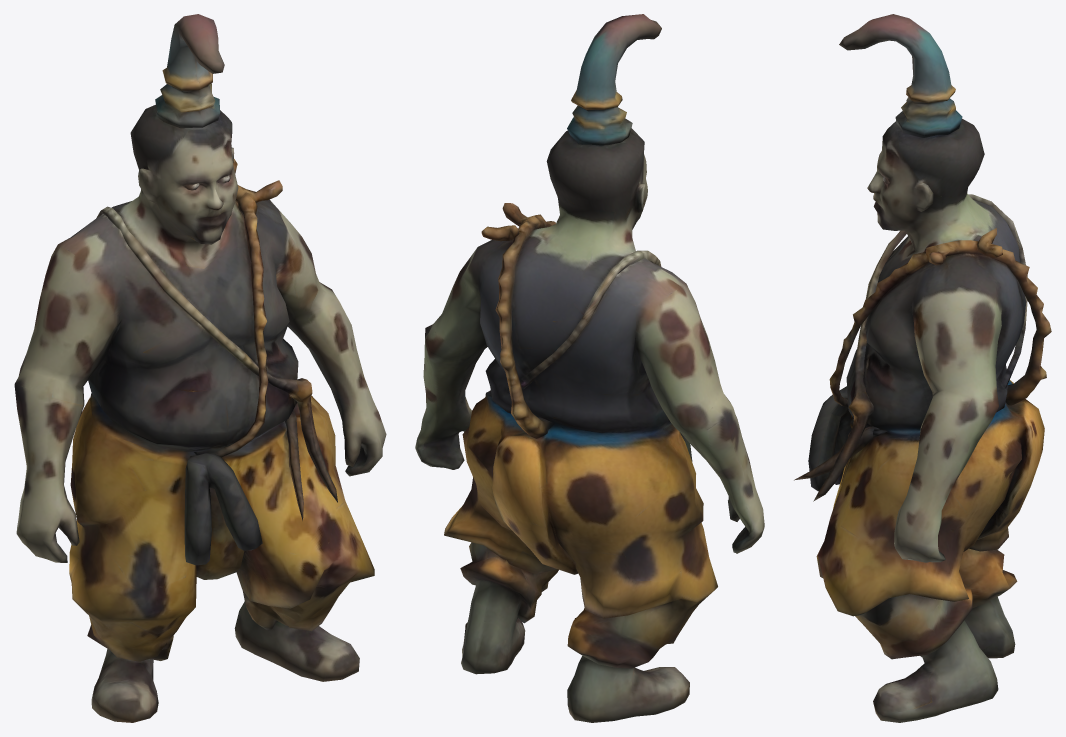
Rendered from แบงค์เลสเตอร์.glb.
The picture shows the model from 3 angles, left to right: view 1: azimuth 30°, elevation 25°; view 2: azimuth 150°, elevation 25°; view 3: azimuth 270°, elevation 25°; orthographic projection. The views are drawn at different scales.
Visible parts, largest first — view 1: Mesh_0.002; view 2: Mesh_0.002; view 3: Mesh_0.002.
Boxes of the visible parts, x1,y1,x2,y2 form: Mesh_0.002: (14, 14, 386, 722); Mesh_0.002: (415, 14, 764, 722); Mesh_0.002: (794, 14, 1051, 722).
Bounding box in the file's own units: 1.1 × 2 × 0.7344.
Materials: 1 (1 with a texture image).
